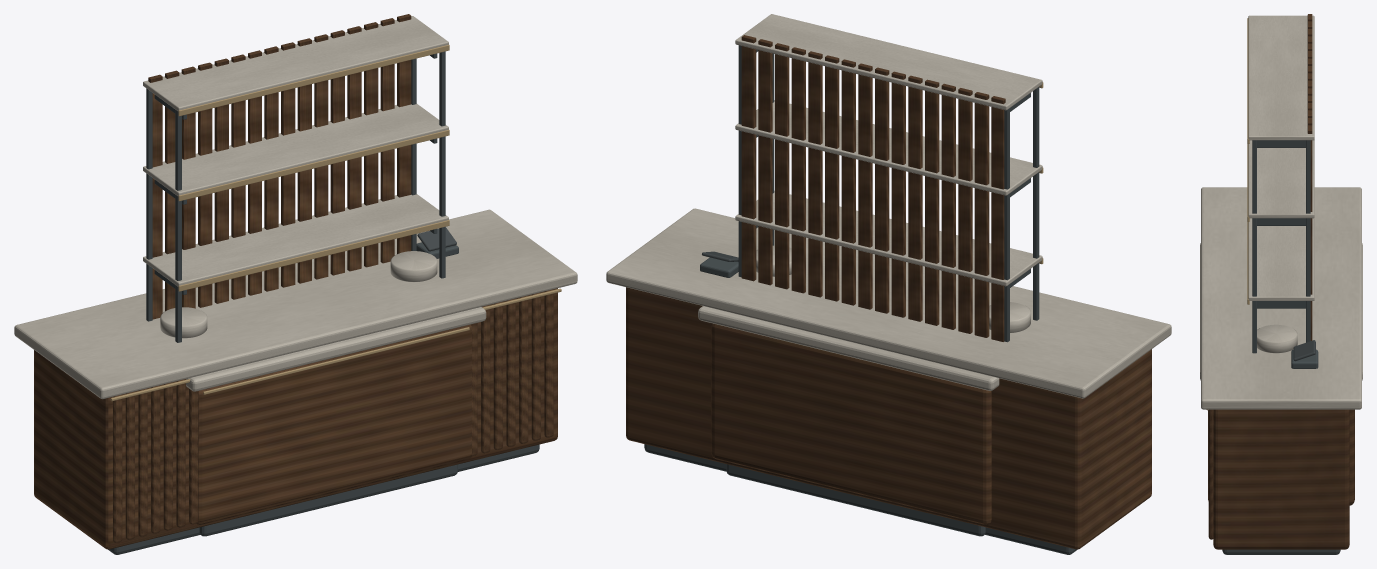
Rendered from NutritionKit.glb.
3 views of the same model, side by side, from view 1: azimuth 30°, elevation 25°; view 2: azimuth 150°, elevation 25°; view 3: azimuth 270°, elevation 25° (orthographic). The views are drawn at different scales.
Visible parts, largest first — view 1: Monolithic honed limestone countertop, Central display walnut cabinet, Crafted walnut counter carcass, Honed stone display shelf.004, Honed stone display shelf.002, Honed stone display shelf.003, Central honed limestone top, Central feature plinth, Oiled walnut acoustic backing slat, Oiled walnut acoustic backing slat.008, Oiled walnut acoustic backing slat.003, Oiled walnut acoustic backing slat.005 (+37 smaller); view 2: Central display walnut cabinet, Crafted walnut counter carcass, Monolithic honed limestone countertop, Honed stone display shelf.004, Central honed limestone top, Honed stone display shelf.003, Honed stone display shelf.002, Oiled walnut acoustic backing slat.015, Oiled walnut acoustic backing slat.001, Oiled walnut acoustic backing slat.009, Oiled walnut acoustic backing slat.012, Oiled walnut acoustic backing slat.014 (+16 smaller); view 3: Monolithic honed limestone countertop, Crafted walnut counter carcass, Honed stone display shelf.004, Honed stone display shelf.002, Honed stone display shelf.003, Counter display stone pedestal.001, Fine section steel upright.002, Fine section steel upright.003, Hand-finished rounded vertical counter fluting.034, Recessed graphite plinth, Central display walnut cabinet, Oiled walnut acoustic backing slat.015 (+7 smaller).
Part boxes in pixels (bbox=[...]): Monolithic honed limestone countertop: bbox=[14, 209, 577, 399]; Central display walnut cabinet: bbox=[196, 324, 471, 524]; Crafted walnut counter carcass: bbox=[34, 288, 557, 549]; Honed stone display shelf.004: bbox=[143, 16, 448, 111]; Honed stone display shelf.002: bbox=[143, 194, 448, 286]; Honed stone display shelf.003: bbox=[143, 104, 448, 196]; Central honed limestone top: bbox=[186, 307, 486, 391]; Central feature plinth: bbox=[199, 464, 457, 536]; Oiled walnut acoustic backing slat: bbox=[148, 74, 162, 319]; Oiled walnut acoustic backing slat.008: bbox=[281, 42, 295, 287]; Oiled walnut acoustic backing slat.003: bbox=[198, 62, 212, 307]; Oiled walnut acoustic backing slat.005: bbox=[231, 54, 245, 299]; Central display walnut cabinet: bbox=[711, 323, 991, 524]; Crafted walnut counter carcass: bbox=[626, 287, 1151, 549]; Monolithic honed limestone countertop: bbox=[606, 208, 1171, 398]; Honed stone display shelf.004: bbox=[735, 14, 1042, 110]; Central honed limestone top: bbox=[698, 306, 999, 390]; Honed stone display shelf.003: bbox=[735, 100, 1042, 195]; Honed stone display shelf.002: bbox=[735, 190, 1042, 286]; Oiled walnut acoustic backing slat.015: bbox=[741, 35, 756, 281]; Oiled walnut acoustic backing slat.001: bbox=[974, 92, 989, 337]; Oiled walnut acoustic backing slat.009: bbox=[841, 59, 855, 305]; Oiled walnut acoustic backing slat.012: bbox=[791, 47, 805, 293]; Oiled walnut acoustic backing slat.014: bbox=[758, 39, 772, 285]; Monolithic honed limestone countertop: bbox=[1201, 187, 1361, 409]; Crafted walnut counter carcass: bbox=[1213, 409, 1349, 549]; Honed stone display shelf.004: bbox=[1248, 15, 1314, 140]; Honed stone display shelf.002: bbox=[1248, 218, 1314, 300]; Honed stone display shelf.003: bbox=[1248, 140, 1314, 218]; Counter display stone pedestal.001: bbox=[1257, 324, 1297, 353]; Fine section steel upright.002: bbox=[1252, 140, 1256, 353]; Fine section steel upright.003: bbox=[1306, 140, 1310, 342]; Hand-finished rounded vertical counter fluting.034: bbox=[1208, 409, 1213, 539]; Recessed graphite plinth: bbox=[1222, 549, 1340, 554]; Central display walnut cabinet: bbox=[1208, 409, 1354, 505]; Oiled walnut acoustic backing slat.015: bbox=[1307, 125, 1312, 340].
Bounding box in the file's own units: 2.82 × 2.43 × 0.91.
Materials: 10 (3 with a texture image).
